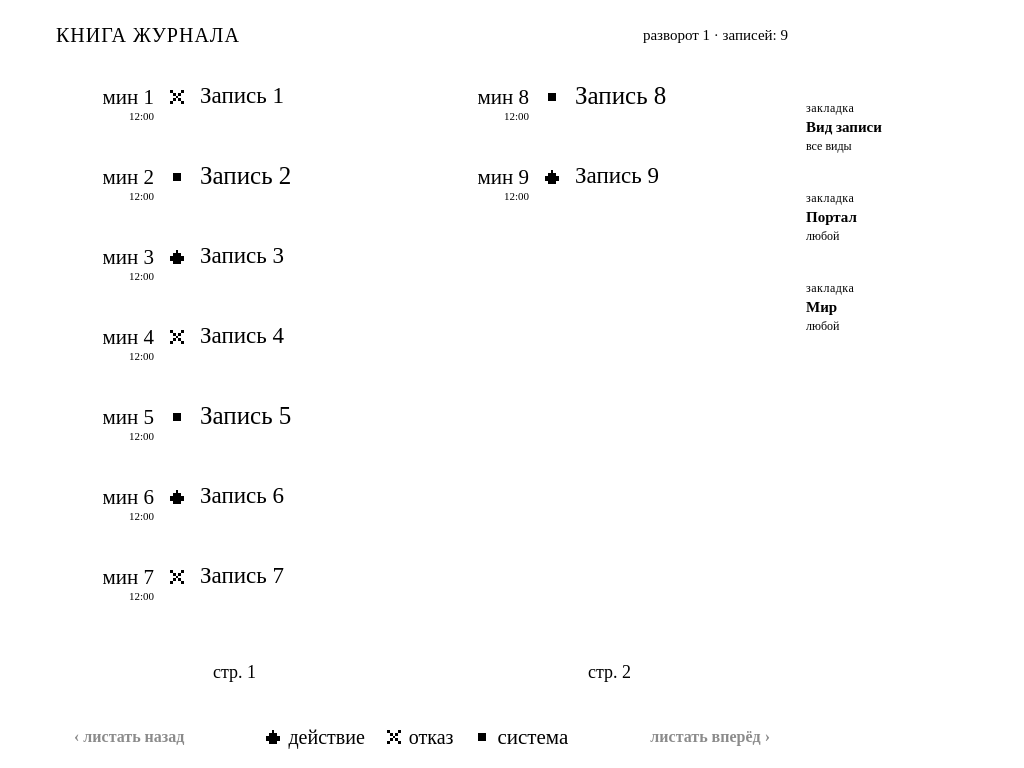
Test: Книга журнала (spec §8, §9) › закладки-фильтры › вид записи сужает книгу
The width and height of the screenshot is (1024, 768).
Click the button "закладка Вид записи все виды" at (880, 133), box [792,94,968,172]
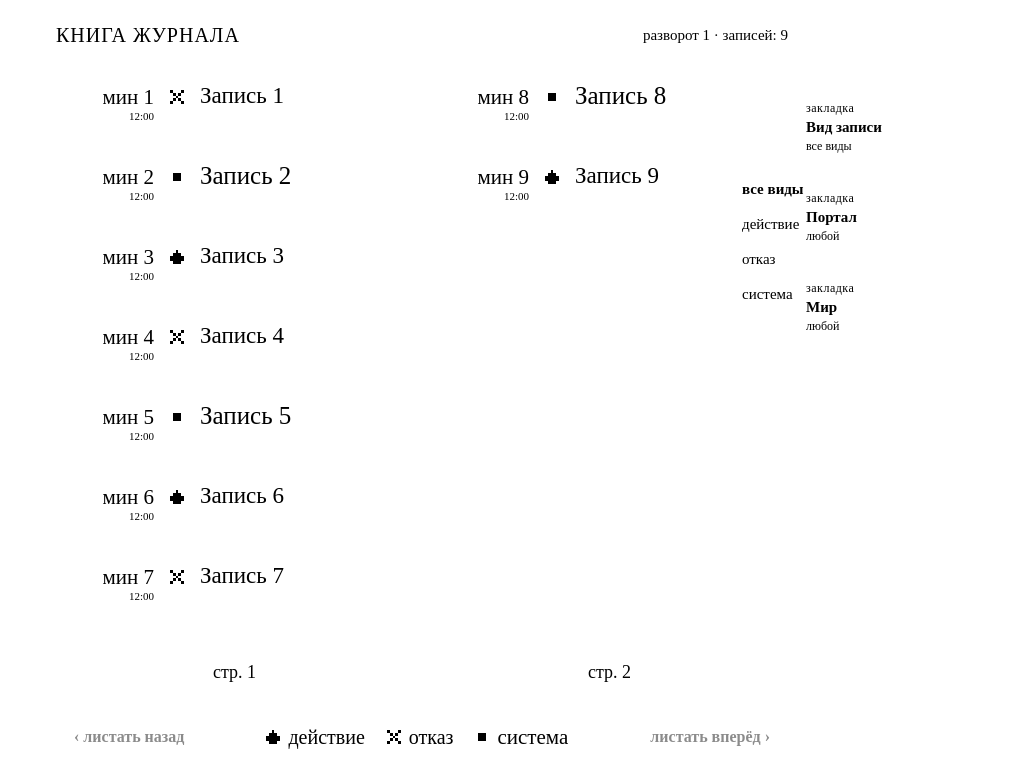
Click the button "отказ" at (848, 260), box [728,242,968,277]
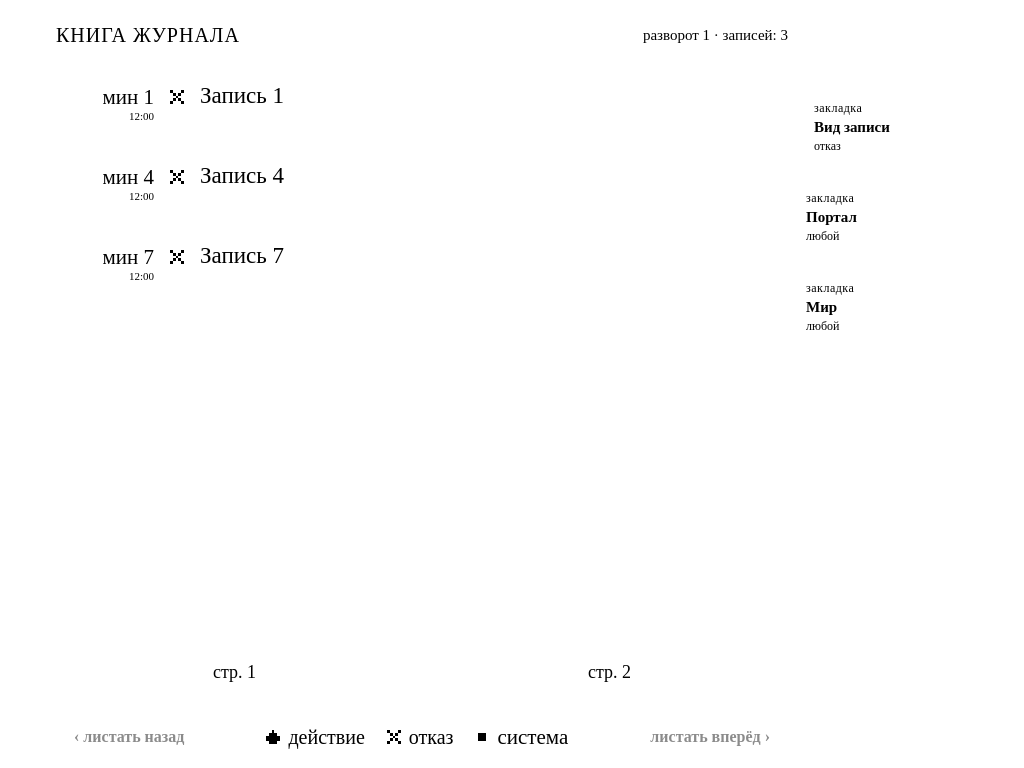
Now the button "закладка Вид записи отказ" is shown, box [800,94,976,172]
Now the text "разворот 1 · записей: 3" is shown, box [643,27,788,44]
